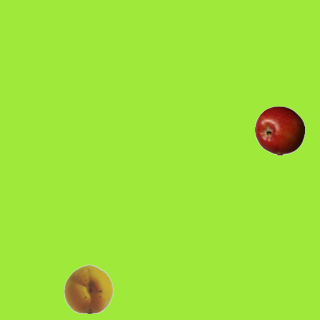Apple Braeburn: (254, 105, 304, 155)
Peach 2: (63, 263, 113, 313)
